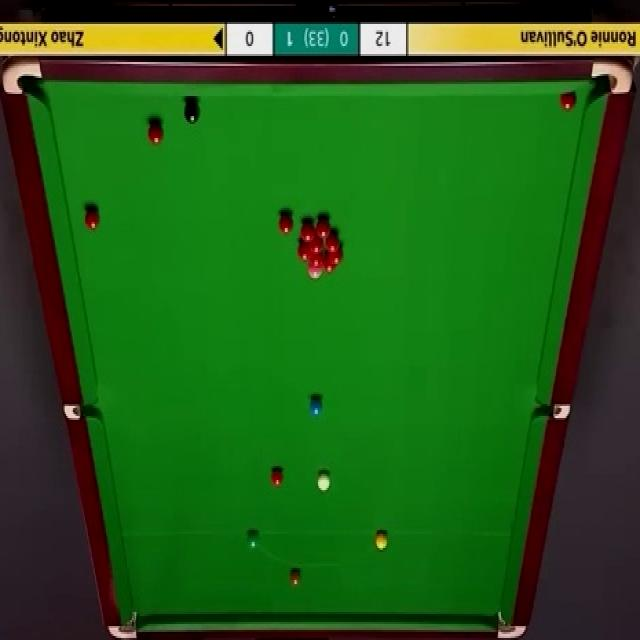black-ball: (183, 98, 200, 124)
blue-ball: (310, 396, 322, 416)
brown-ball: (290, 569, 300, 586)
green-ball: (246, 531, 258, 547)
pink-ball: (309, 260, 320, 278)
red-ball: (84, 205, 100, 231), (314, 215, 332, 238), (322, 230, 340, 252), (148, 117, 162, 143), (321, 251, 336, 274), (562, 89, 576, 111), (280, 212, 293, 235), (300, 222, 316, 240), (298, 241, 311, 263), (308, 234, 324, 251), (327, 246, 342, 264), (310, 249, 324, 268), (270, 467, 282, 485)
white-ball: (317, 472, 331, 492)
yellow-ball: (375, 530, 388, 551)
